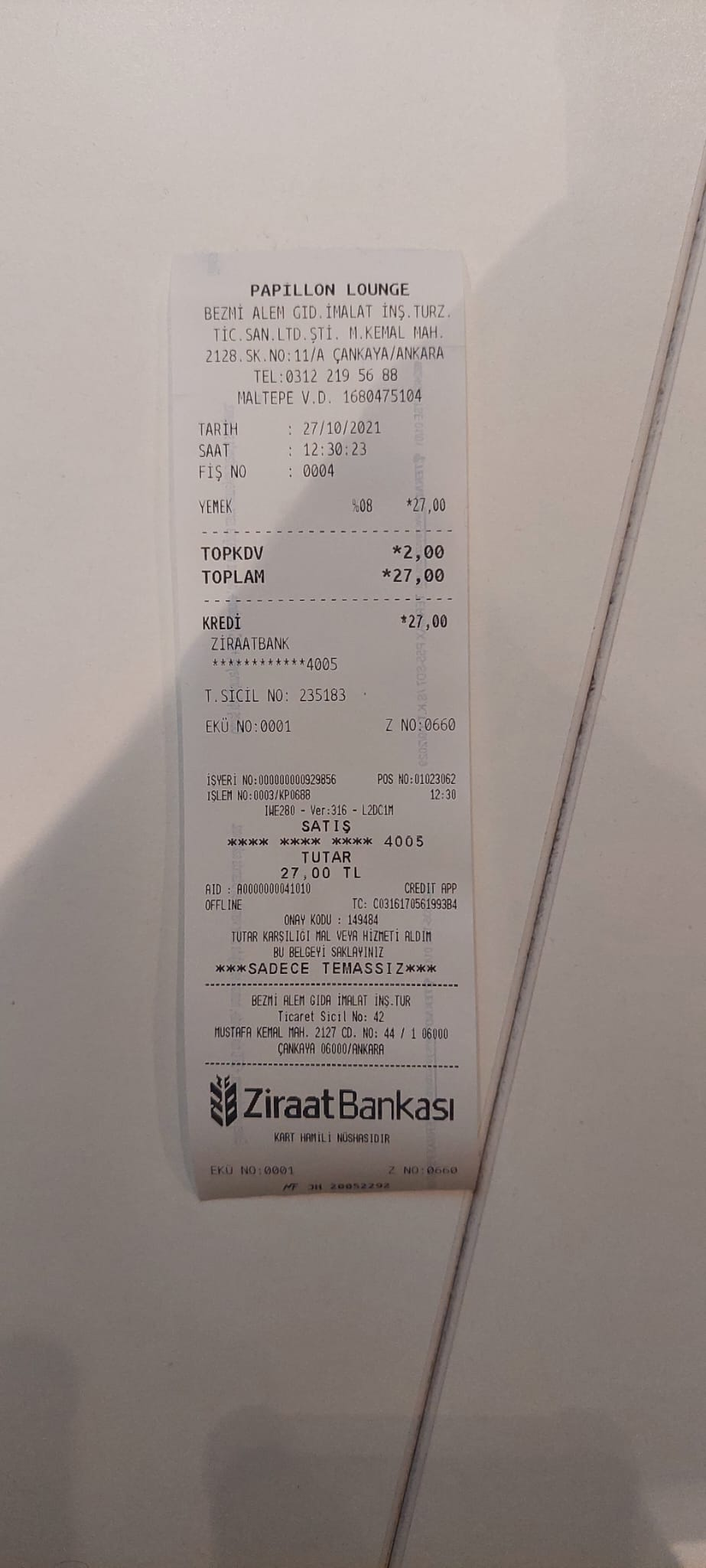date: (391, 562, 449, 587)
price: (300, 415, 389, 441)
workplace: (193, 277, 460, 366)
